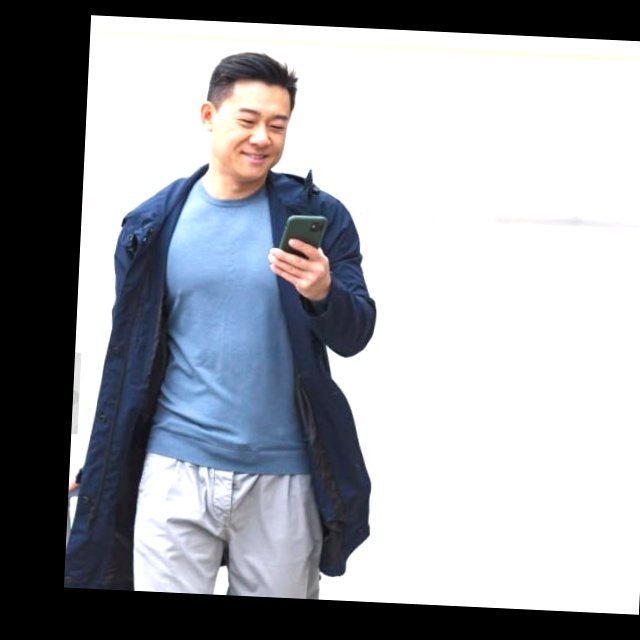Sin_Casco_Mascarrilla: (197, 48, 303, 188)
Sin_Chaleco: (103, 166, 343, 468)
